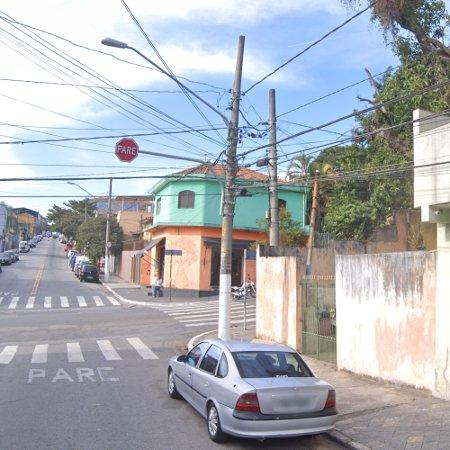crosswalks: (0, 294, 123, 308)
